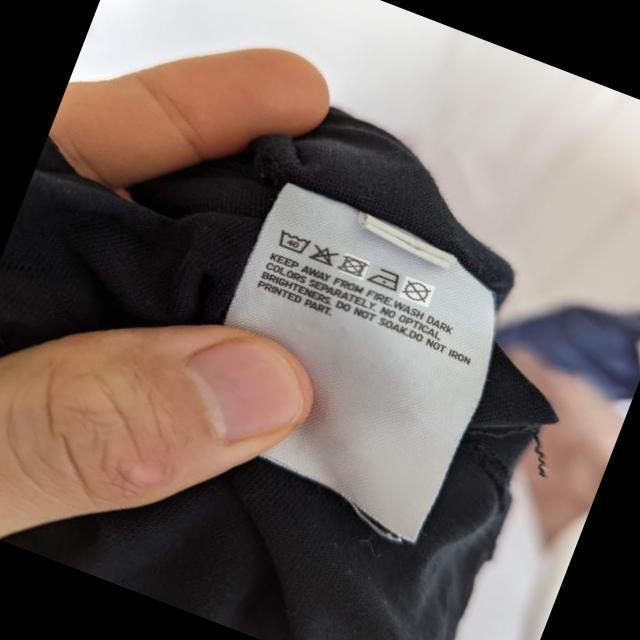40C: (277, 229, 311, 253)
DN_bleach: (308, 243, 339, 267)
DN_dry_clean: (401, 279, 433, 303)
DN_tumble_dry: (342, 255, 368, 278)
iron_low: (369, 266, 401, 293)
